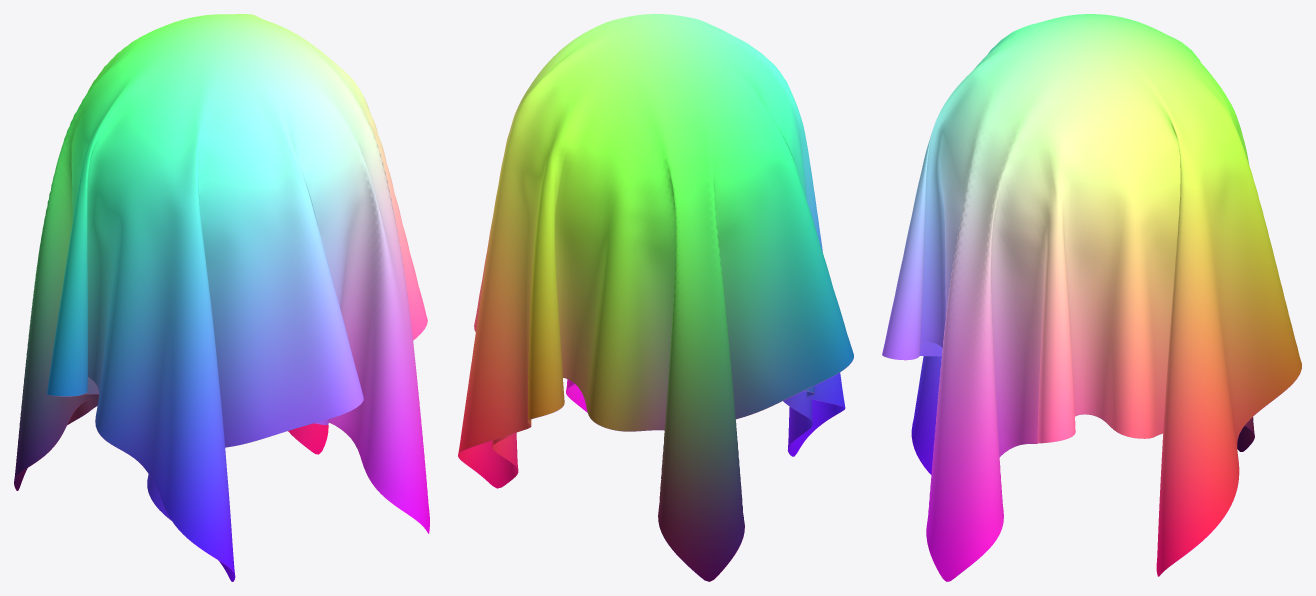
Rendered from cloth.glb.
3 renders of one model, left to right at view 1: azimuth 30°, elevation 25°; view 2: azimuth 150°, elevation 25°; view 3: azimuth 270°, elevation 25°, orthographic. The views are drawn at different scales.
Parts seen in each view (by area): view 1: Cloth; view 2: Cloth; view 3: Cloth.
Part boxes in pixels (bbox=[...]): Cloth: bbox=[14, 14, 429, 581]; Cloth: bbox=[458, 14, 853, 581]; Cloth: bbox=[882, 14, 1301, 581].
Size of the model in its own units: 1.09 by 1.36 by 1.06.
1 material, 1 textured.
